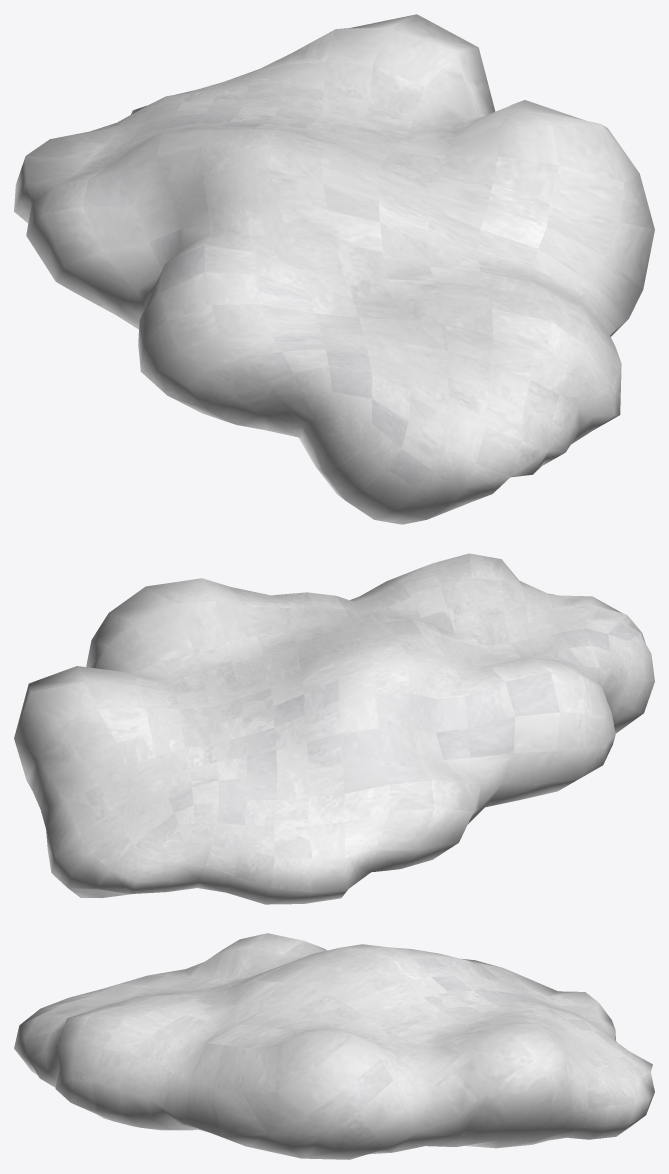
Rendered from MayMong.fbx.
The picture shows the model from 3 angles, top to bottom: view 1: azimuth 30°, elevation 25°; view 2: azimuth 150°, elevation 25°; view 3: azimuth 270°, elevation 25°; orthographic projection. The views are drawn at different scales.
Parts seen in each view (by area): view 1: MayMong; view 2: MayMong; view 3: MayMong.
Boxes of the visible parts, x1,y1,x2,y2 form: MayMong: [14, 14, 654, 524]; MayMong: [14, 553, 654, 904]; MayMong: [14, 933, 654, 1159].
Bounding box in the file's own units: 10.94 × 16.49 × 4.1.
1 material, 1 textured.
